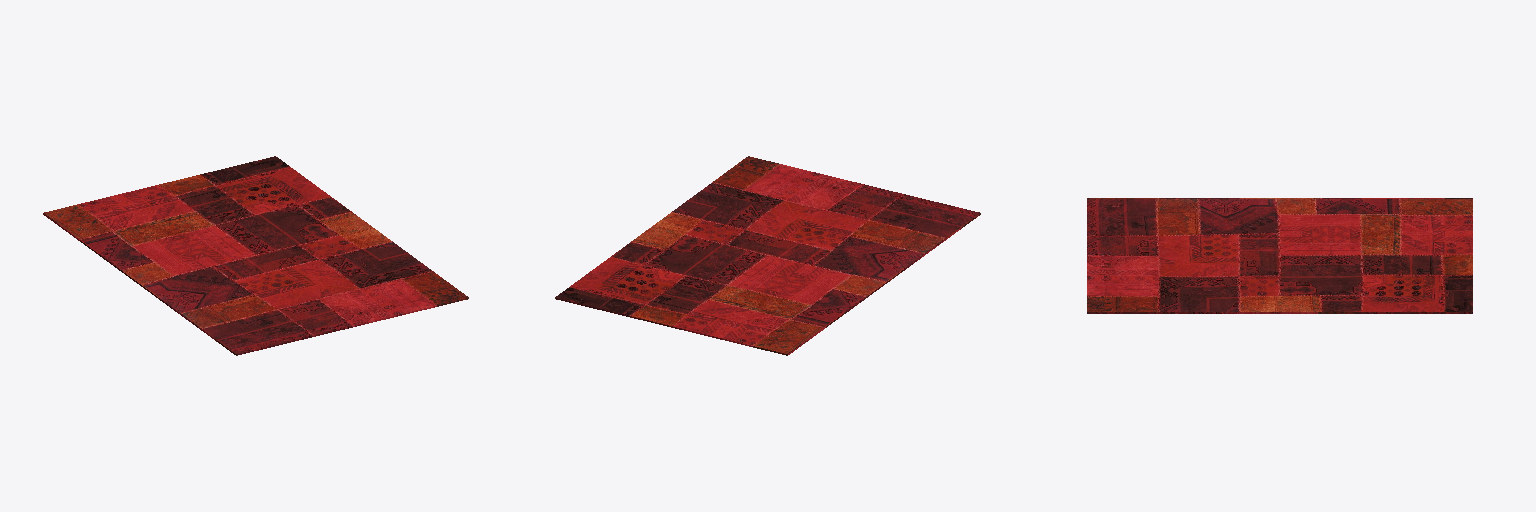
3 views of the same model, side by side, from view 1: azimuth 30°, elevation 25°; view 2: azimuth 150°, elevation 25°; view 3: azimuth 270°, elevation 25° (orthographic).
Parts seen in each view (by area): view 1: Mesh1 Groupe_46_1 Model; view 2: Mesh1 Groupe_46_1 Model; view 3: Mesh1 Groupe_46_1 Model.
Part boxes in pixels (x1,y1,x2,y2): Mesh1 Groupe_46_1 Model: (43,156,468,355); Mesh1 Groupe_46_1 Model: (555,156,980,355); Mesh1 Groupe_46_1 Model: (1087,198,1472,313).
Size of the model in its own units: 1.6 by 0.01 by 2.3.
Materials: 1 (1 with a texture image).